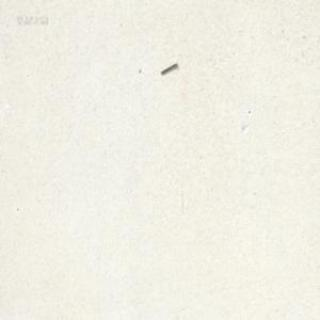Bolttrack_idkeyframe: (159, 63, 176, 76)
